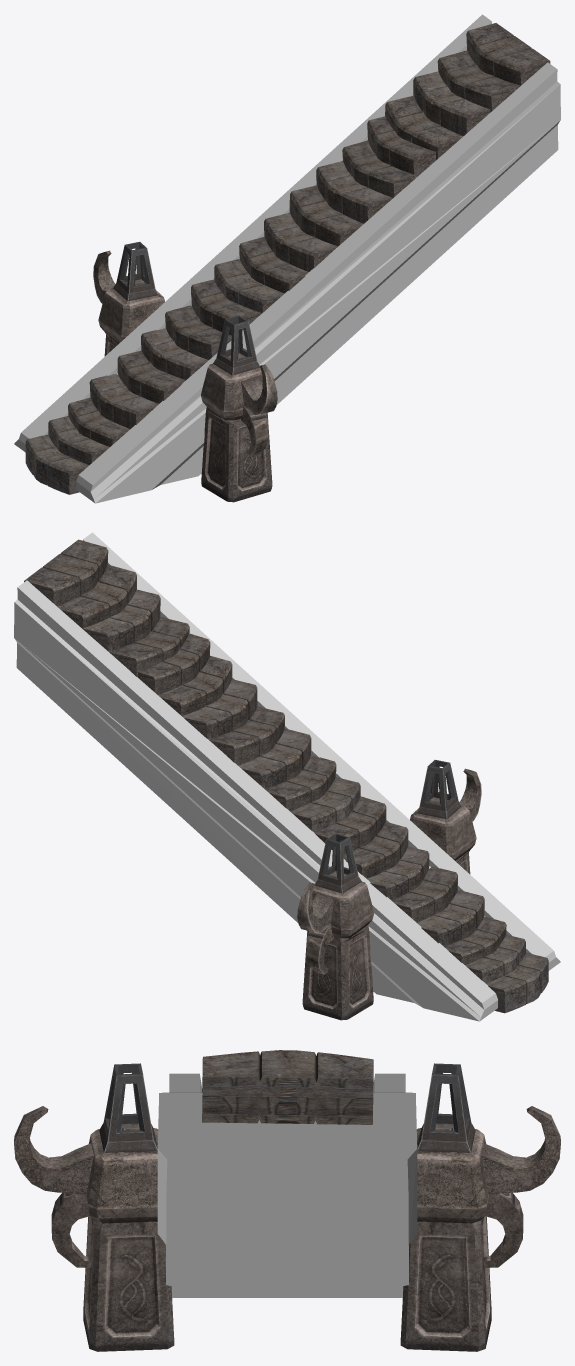
File: StairsV5.FBX
The picture shows the model from 3 angles, top to bottom: view 1: azimuth 30°, elevation 25°; view 2: azimuth 150°, elevation 25°; view 3: azimuth 270°, elevation 25°; orthographic projection. The views are drawn at different scales.
Parts seen in each view (by area): view 1: Object003; view 2: Object003; view 3: Object003.
Boxes of the visible parts, left/top/right/bottom form: Object003: left=14, top=14, right=560, bottom=503; Object003: left=14, top=532, right=560, bottom=1021; Object003: left=14, top=1050, right=560, bottom=1351.
Bounding box in the file's own units: 301 × 194 × 187.
